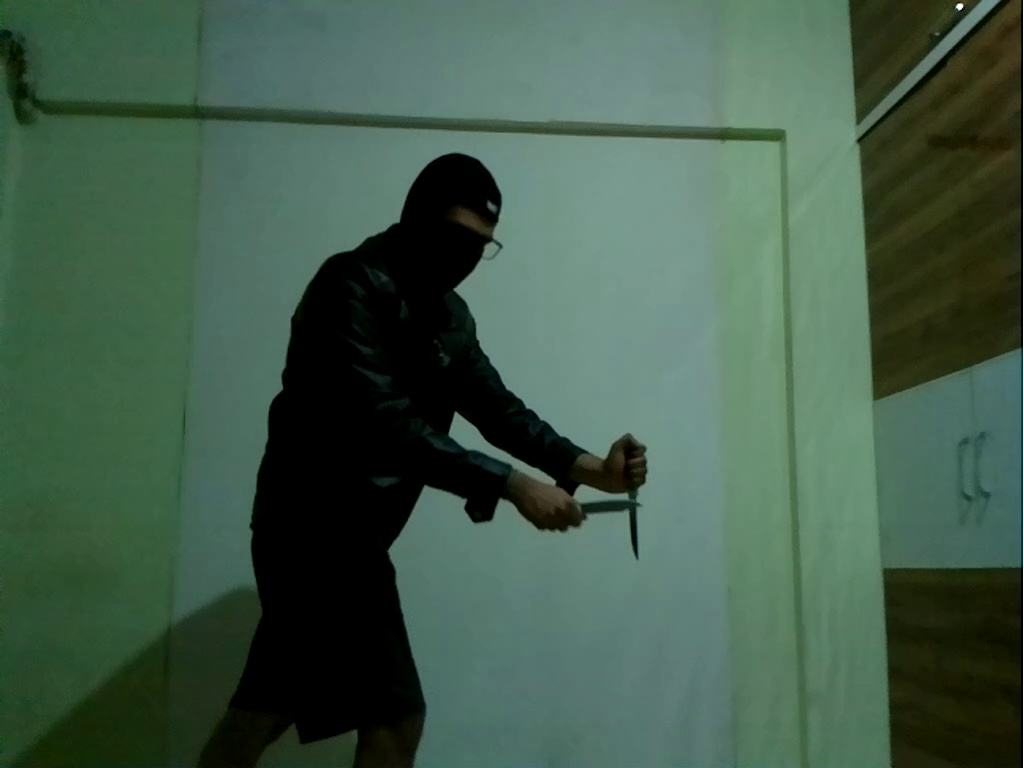knife: (624, 488, 650, 564), (565, 496, 649, 518)
